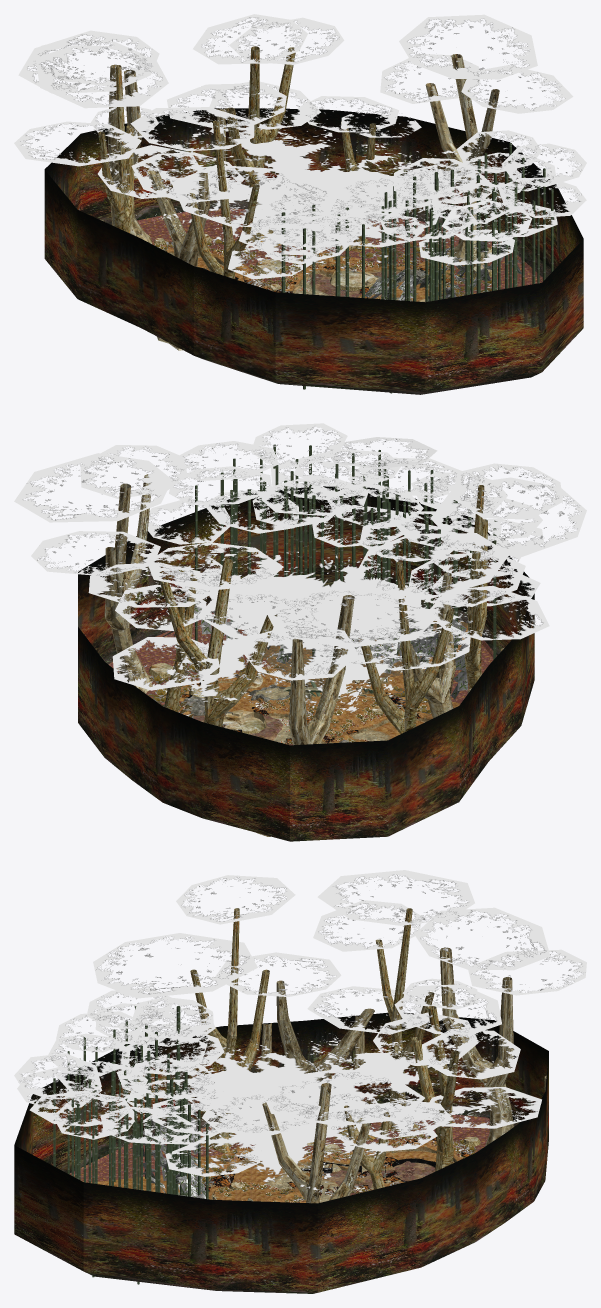
The model's file is last_piklopedia_JP.dae.
3 views of the same model, one above another, from view 1: azimuth 30°, elevation 25°; view 2: azimuth 150°, elevation 25°; view 3: azimuth 270°, elevation 25° (orthographic). The views are drawn at different scales.
Parts seen in each view (by area): view 1: m10, m12, m11, m2, m13, m14, m23, m29_1, m18, m1, m15, m1_1 (+2 smaller); view 2: m10, m12, m11, m13, m14, m2, m18, m29_1, m23, m1, m15, m21 (+4 smaller); view 3: m10, m12, m11, m14, m13, m2, m18, m23, m29_1, m1, m16, m6 (+1 smaller).
Boxes of the visible parts, left/top/right/bottom form: m10: left=44, top=108, right=583, bottom=394; m12: left=14, top=14, right=586, bottom=279; m11: left=114, top=115, right=500, bottom=291; m2: left=281, top=143, right=553, bottom=393; m13: left=98, top=46, right=497, bottom=290; m14: left=100, top=54, right=499, bottom=350; m23: left=139, top=213, right=541, bottom=293; m29_1: left=344, top=241, right=521, bottom=301; m18: left=161, top=247, right=454, bottom=301; m1: left=155, top=239, right=491, bottom=298; m15: left=155, top=234, right=491, bottom=301; m1_1: left=154, top=239, right=497, bottom=298; m10: left=78, top=486, right=534, bottom=841; m12: left=14, top=423, right=586, bottom=690; m11: left=104, top=535, right=494, bottom=723; m13: left=148, top=485, right=487, bottom=734; m14: left=104, top=474, right=504, bottom=836; m2: left=195, top=444, right=496, bottom=696; m18: left=164, top=629, right=467, bottom=743; m29_1: left=173, top=596, right=467, bottom=699; m23: left=112, top=619, right=493, bottom=745; m1: left=148, top=658, right=430, bottom=744; m15: left=151, top=663, right=381, bottom=732; m21: left=263, top=621, right=437, bottom=686; m10: left=14, top=1012, right=548, bottom=1293; m12: left=14, top=870, right=586, bottom=1176; m11: left=82, top=1033, right=523, bottom=1192; m14: left=260, top=947, right=546, bottom=1203; m13: left=190, top=908, right=480, bottom=1193; m2: left=53, top=1006, right=208, bottom=1284; m18: left=103, top=1141, right=462, bottom=1202; m23: left=74, top=1118, right=489, bottom=1195; m29_1: left=128, top=1101, right=205, bottom=1198; m1: left=187, top=1134, right=476, bottom=1202; m16: left=201, top=1145, right=458, bottom=1202; m6: left=381, top=1163, right=435, bottom=1181.
Bounding box in the file's own units: 9789 × 4681 × 9886.
89 materials, 88 textured.
